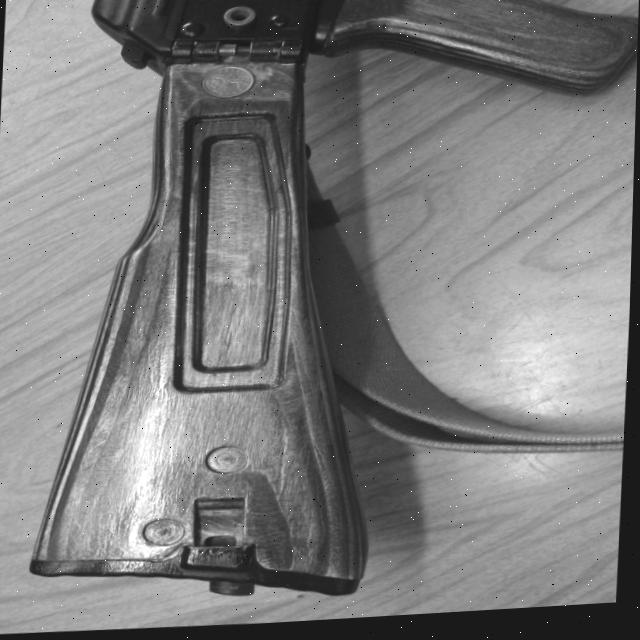firearm: (24, 0, 640, 621)
